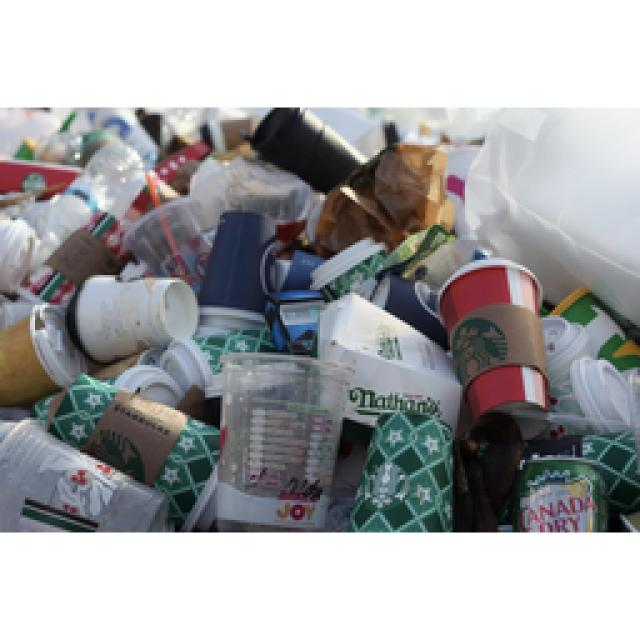aluminum_soda_cans: (510, 452, 607, 533)
paper_cups: (433, 263, 553, 431), (353, 401, 453, 532), (71, 274, 202, 364), (248, 109, 368, 192), (0, 300, 92, 400), (195, 213, 271, 323), (313, 237, 388, 304)
plastic_water_bottles: (67, 144, 150, 219)
